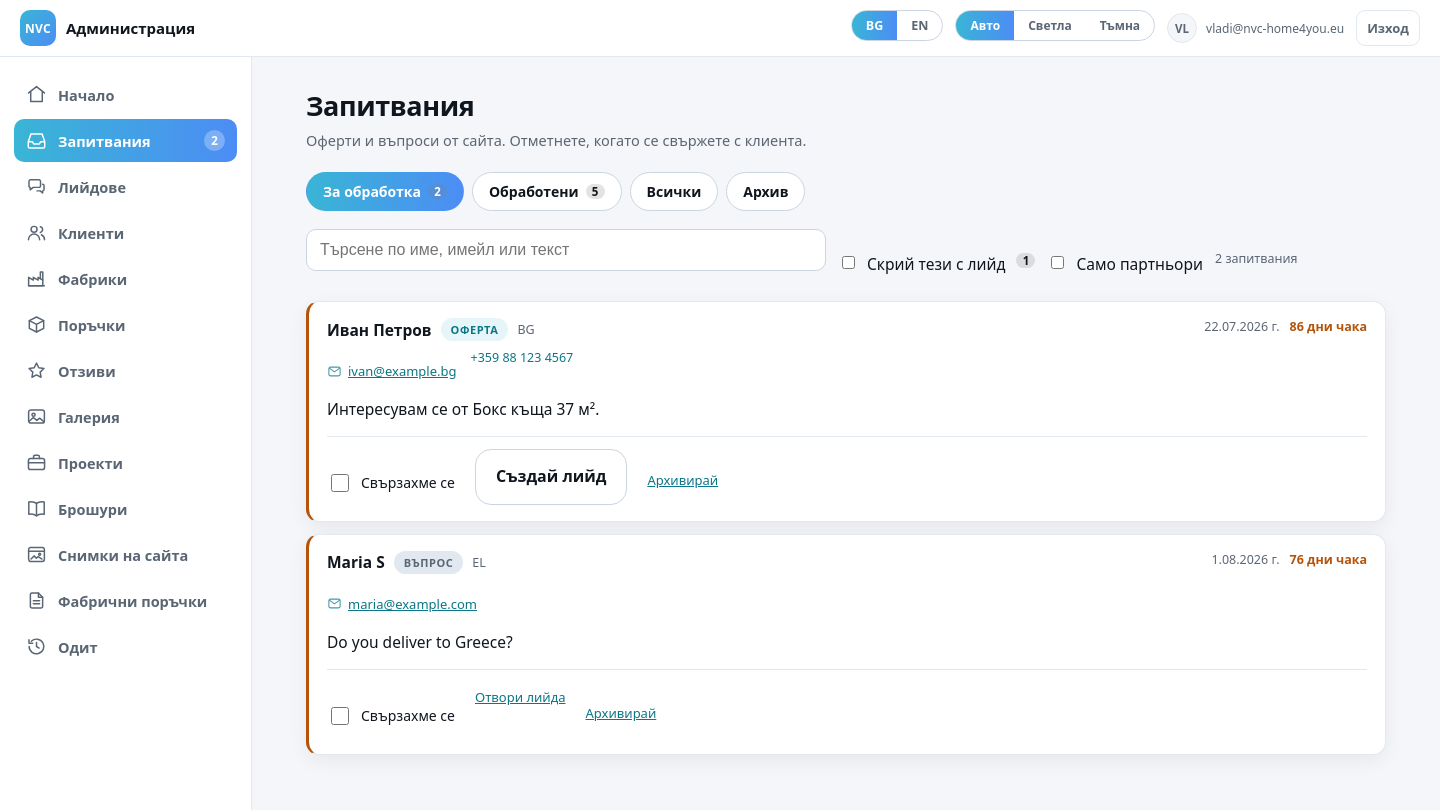
Test: AdminInquiriesPage › filters down to the inquiries that still need a lead
Expected: the link "Отвори лийда" is shown, [475,688,566,706]
Expected: the number of buttons "Създай лийд" is 1, [475,449,627,505]
# Checked hides the ones already handled, leaving only work still to do.
Click the checkbox labelled "Скрий тези с лийд 1": {"x": 848, "y": 262} [842,256,855,269]
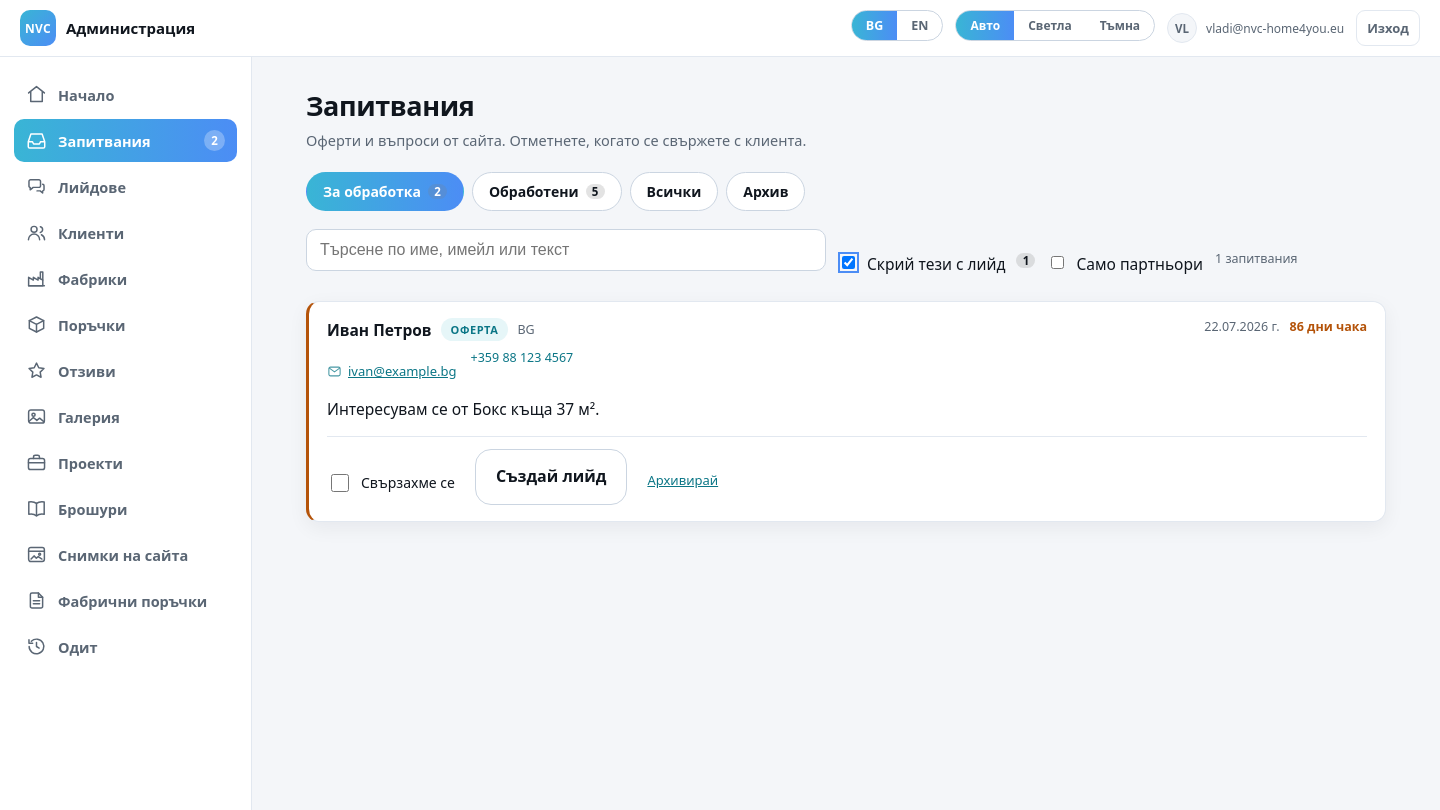
Expected: the number of buttons "Създай лийд" is 1, [475,449,627,505]
Expected: the link "Отвори лийда" is gone
